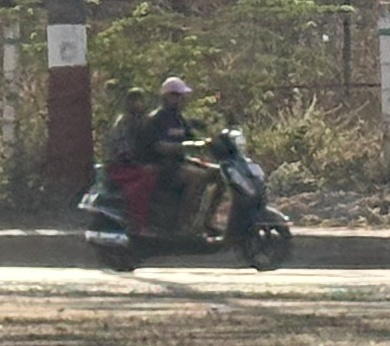BikeWithRider: (71, 71, 301, 276)
NoHelmet: (153, 72, 196, 112), (118, 82, 152, 119)
